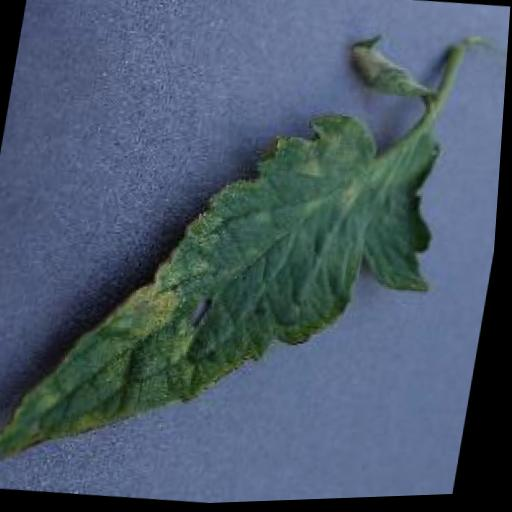Leaf Mold: (0, 78, 461, 512)
